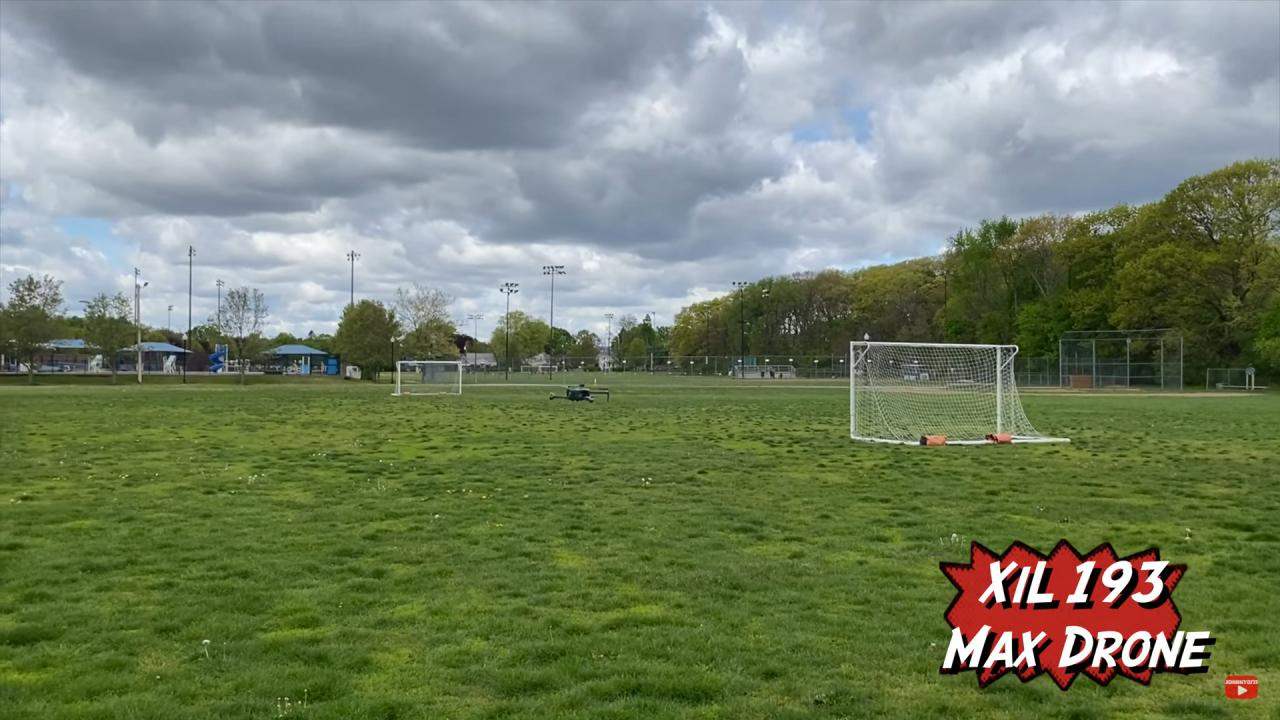Drone: (534, 375, 624, 416)
